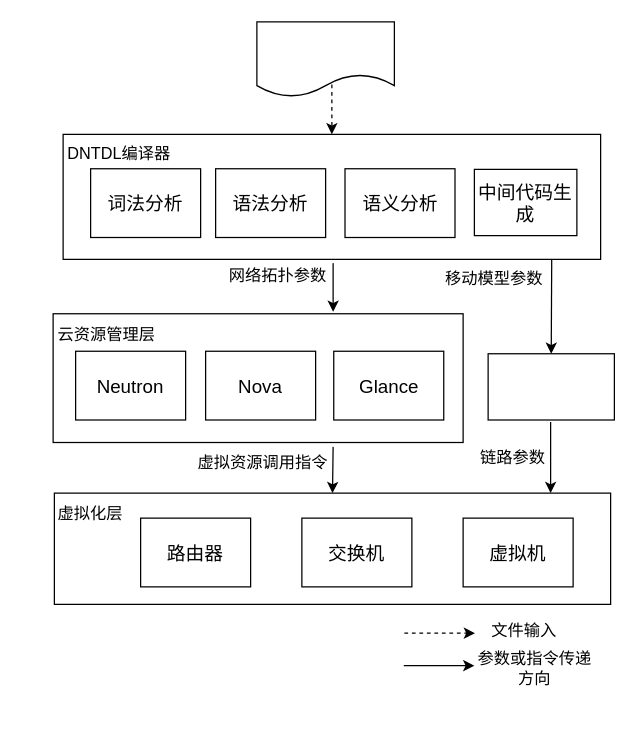
Some shapes in this 636 by 736 pixel diagram are drawn without their labels. The centre of each missing label's shape, as x and y in pixels:
"DNTDL文件" belongs at point 325,59.
"ns-3移动模块" belongs at point 550,386.
